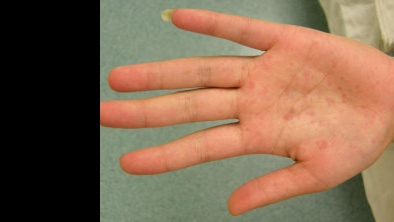SJS-TEN: (223, 21, 394, 181)
